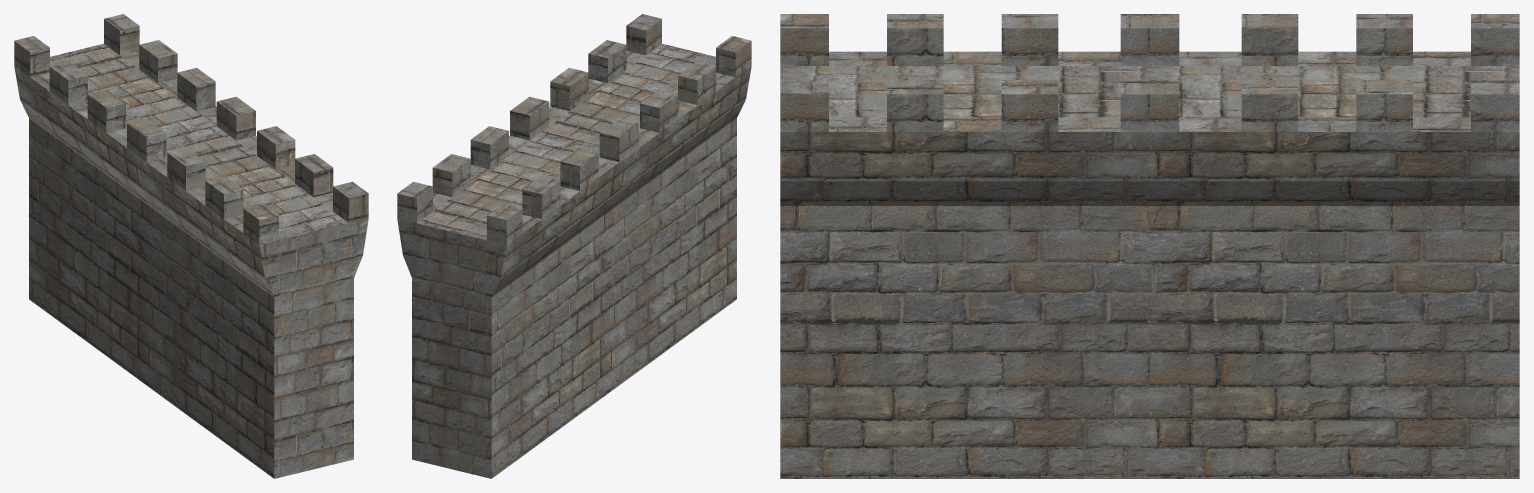
Rendered from Wall.glb.
The picture shows the model from 3 angles, left to right: view 1: azimuth 30°, elevation 25°; view 2: azimuth 150°, elevation 25°; view 3: azimuth 270°, elevation 25°; orthographic projection. The views are drawn at different scales.
Visible parts, largest first — view 1: Wall; view 2: Wall; view 3: Wall.
Part boxes in pixels (bbox=[...]): Wall: bbox=[14, 14, 368, 478]; Wall: bbox=[397, 14, 751, 478]; Wall: bbox=[780, 14, 1519, 478].
Size of the model in its own units: 0.3437 by 0.7884 by 1.34.
Materials: 1 (1 with a texture image).
